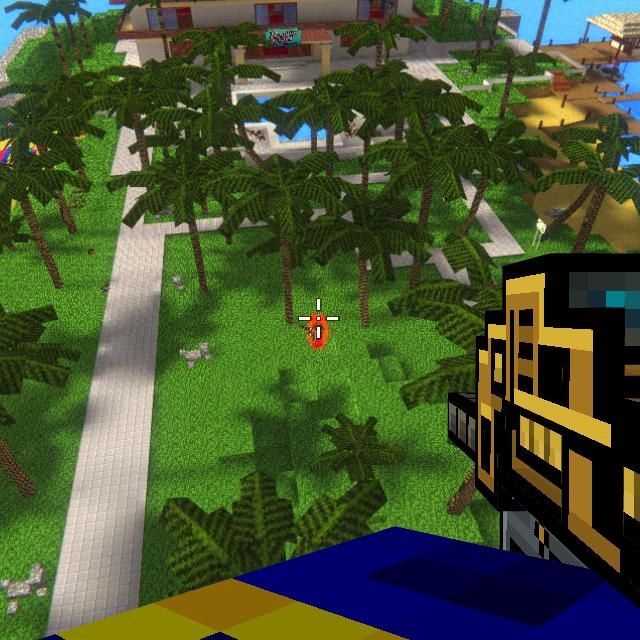Enemy: (310, 322, 324, 342)
